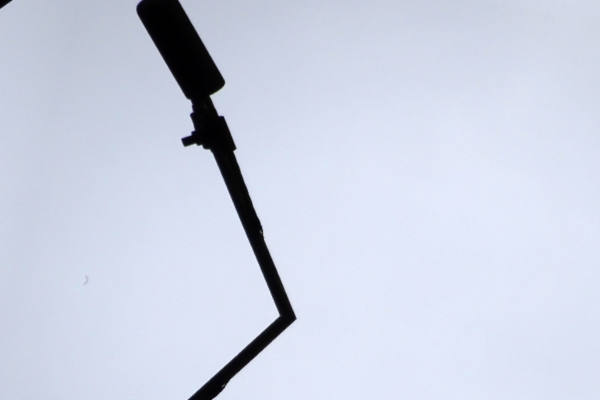damper_defect: (132, 1, 266, 237)
